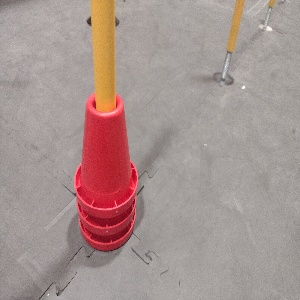Red_3: (73, 91, 139, 252)
